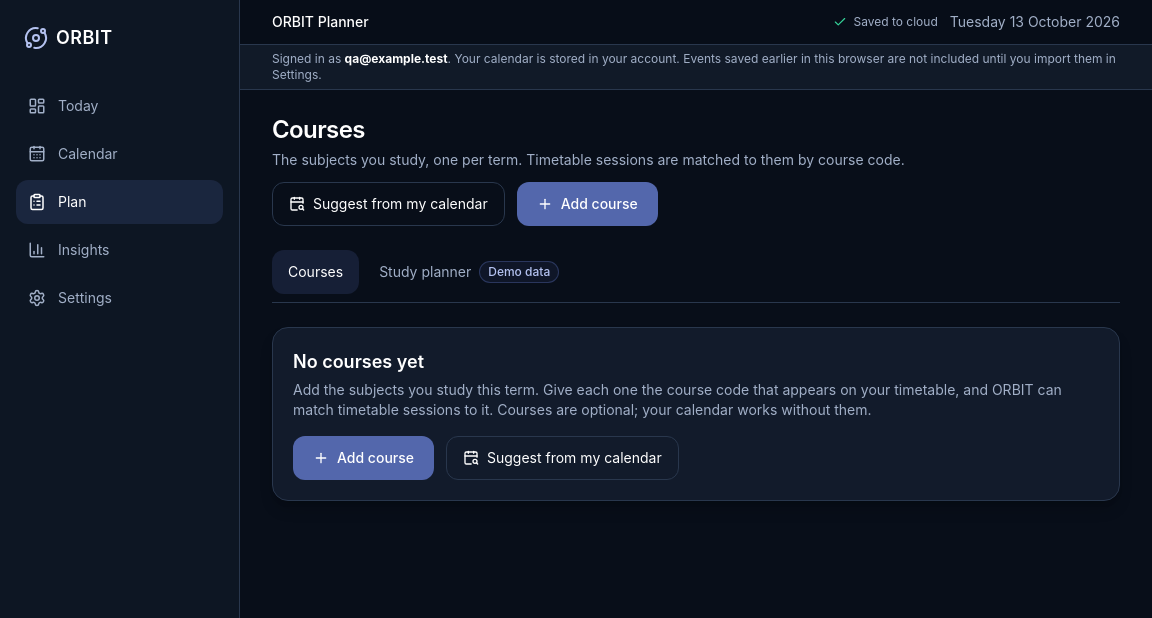
Test case: suggest from my calendar › a partial failure is reported truthfully; the failed candidate stays, a retry reuses its id and creates exactly one course
Expected: the heading "Courses" is shown, left=272, top=115, right=365, bottom=144
Click the 1st button "Suggest from my calendar".
click(388, 204)  # box left=272, top=182, right=505, bottom=226
(page scrolled)
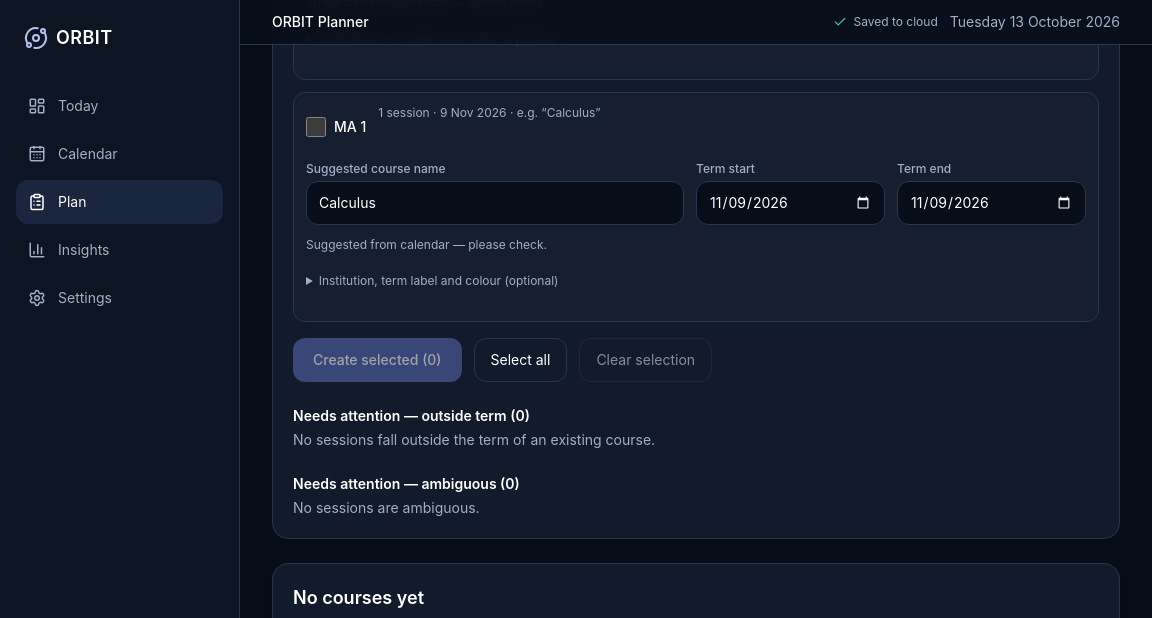
Click the button "Select all".
click(520, 360)  # box left=474, top=338, right=567, bottom=382
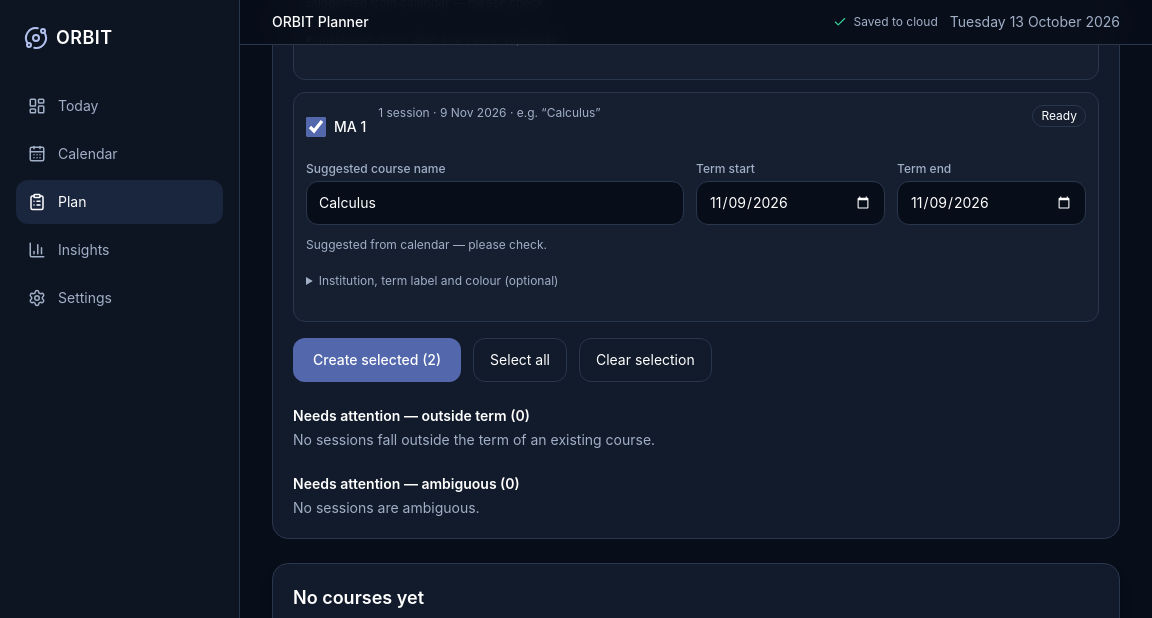
Click the button "Create selected (2)".
click(377, 360)  # box left=293, top=338, right=461, bottom=382
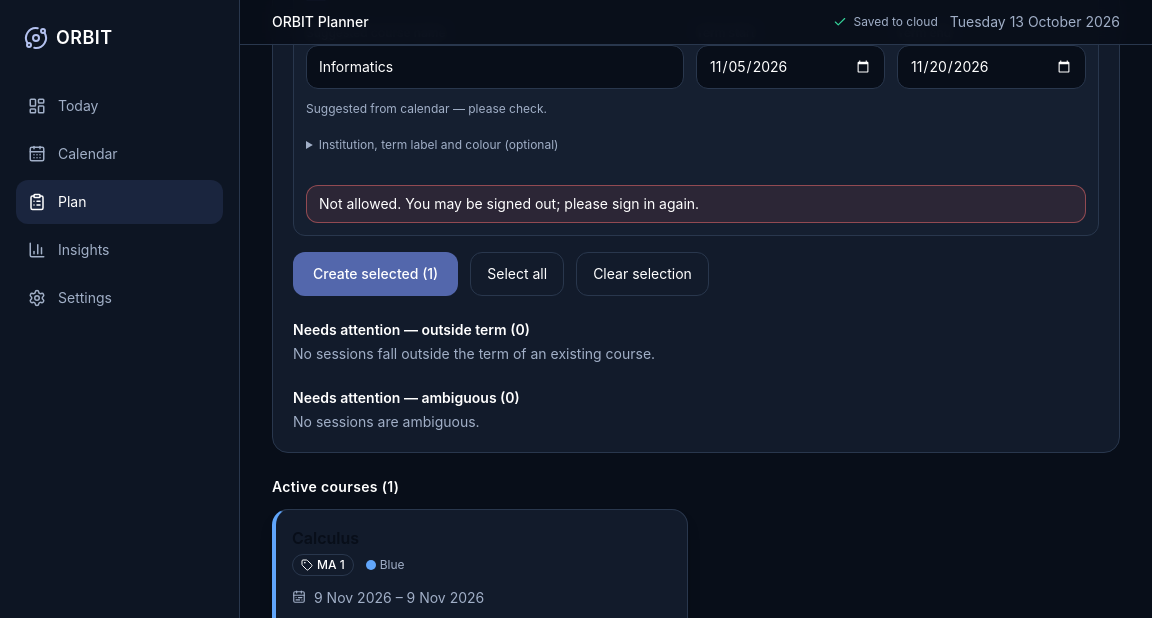
Expected: the message with test id "candidate-error" shows "Not allowed", left=319, top=195, right=699, bottom=212
Click the button "Create selected (1)".
click(376, 274)  # box left=293, top=252, right=458, bottom=296
(page scrolled)
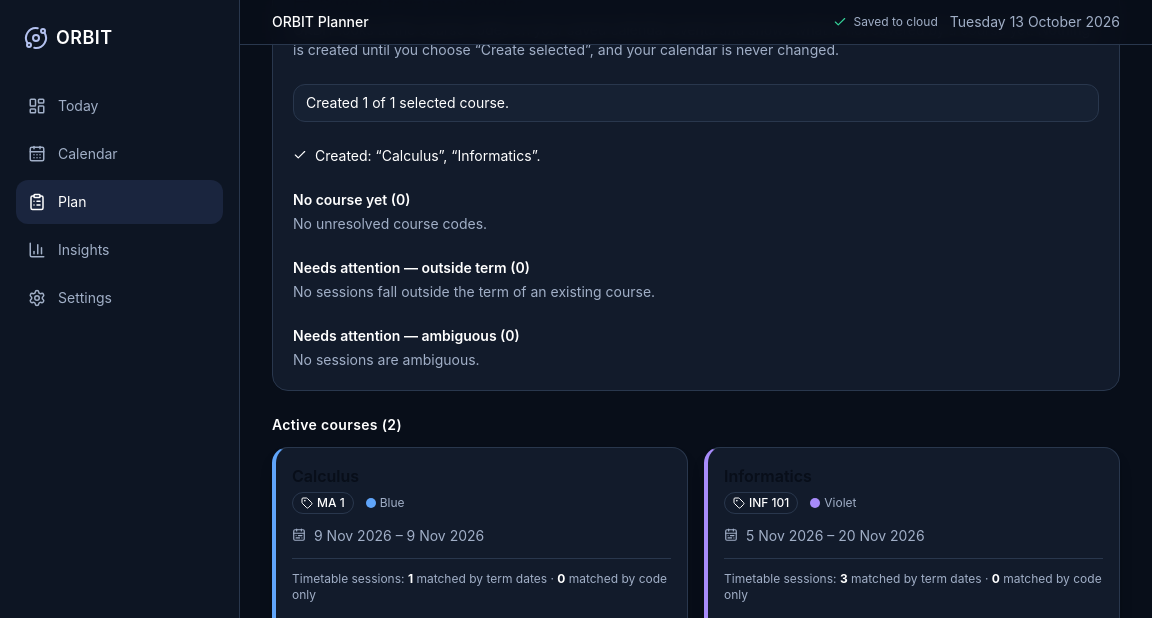
Expected: the message with test id "suggest-summary" shows "Created 1 of 1", left=306, top=94, right=509, bottom=111
